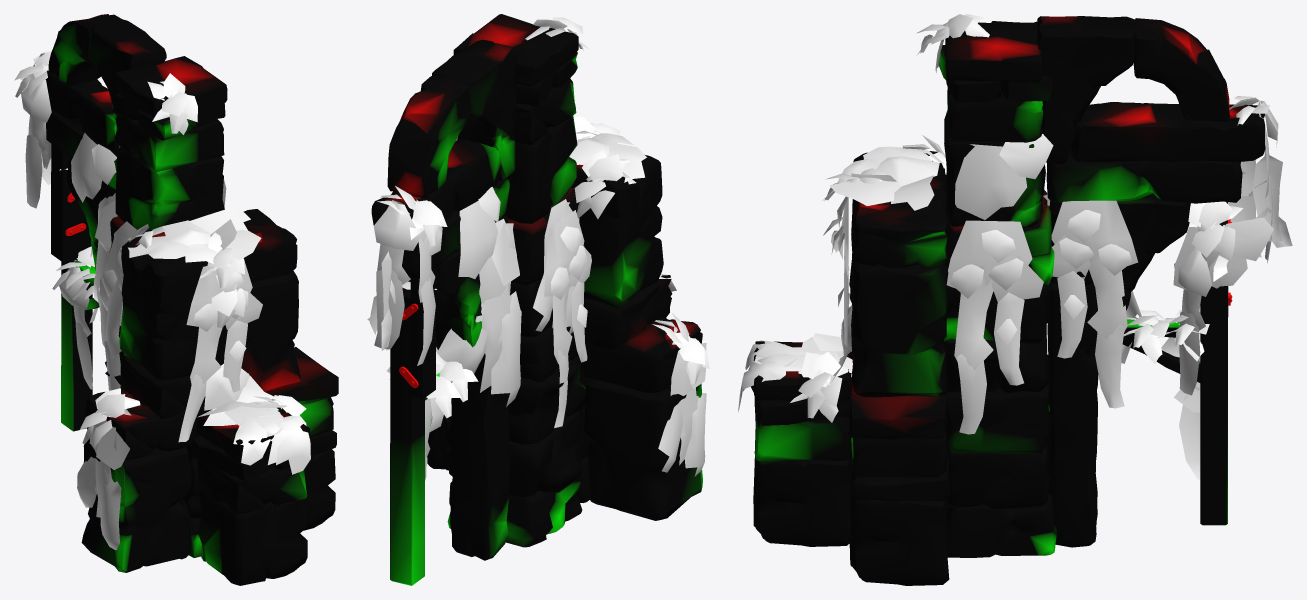
The model's file is composition_3x5.fbx.
The picture shows the model from 3 angles, left to right: view 1: azimuth 30°, elevation 25°; view 2: azimuth 150°, elevation 25°; view 3: azimuth 270°, elevation 25°; orthographic projection. The views are drawn at different scales.
Visible parts, largest first — view 1: StaticMeshActor_UAID_00155DBB35CDA82301_1259434696_LOD0; view 2: StaticMeshActor_UAID_00155DBB35CDA82301_1259434696_LOD0; view 3: StaticMeshActor_UAID_00155DBB35CDA82301_1259434696_LOD0.
Part boxes in pixels (x1,y1,x2,y2): StaticMeshActor_UAID_00155DBB35CDA82301_1259434696_LOD0: (14,14,338,585); StaticMeshActor_UAID_00155DBB35CDA82301_1259434696_LOD0: (367,14,709,585); StaticMeshActor_UAID_00155DBB35CDA82301_1259434696_LOD0: (738,14,1292,585).
Size of what is drawn, in the model's own units: 325 by 572 by 589.
